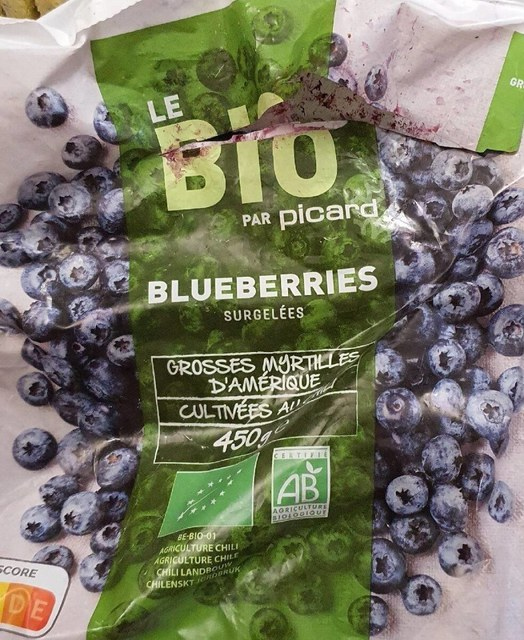Blueberries: (26, 32, 498, 608)
